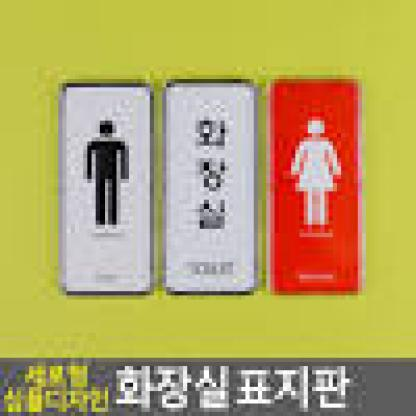toilet: (286, 115, 347, 230), (82, 117, 134, 229)
